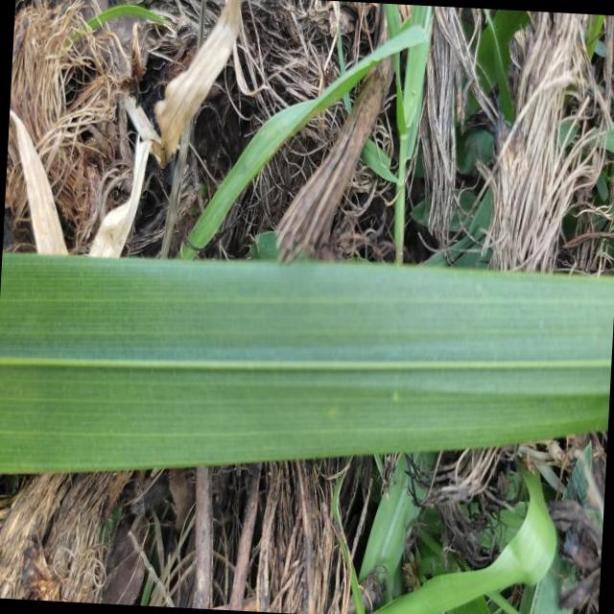Healthy: (1, 249, 614, 478)
